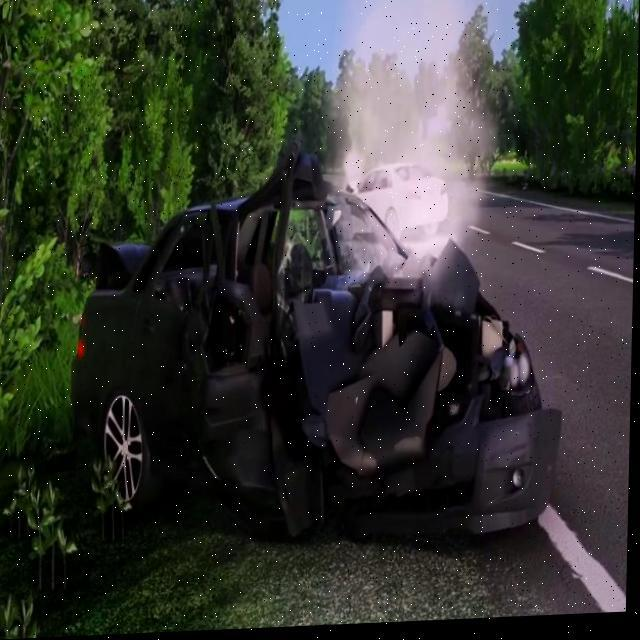single accident: (6, 53, 594, 550)
